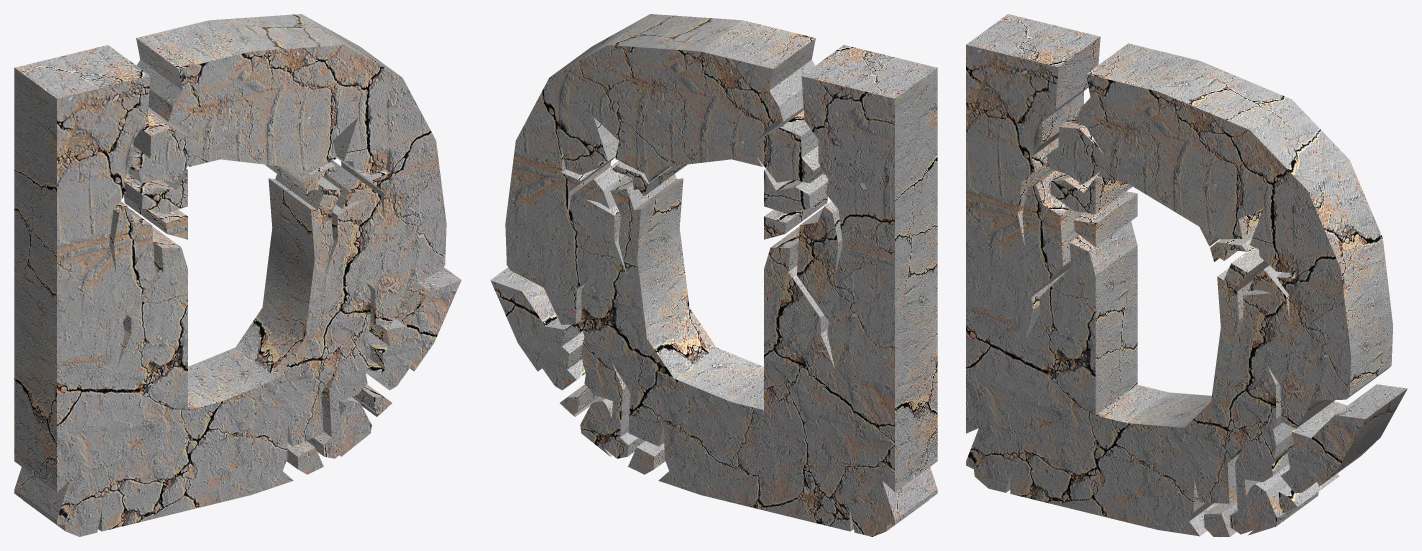
3 views of the same model, side by side, from view 1: azimuth 30°, elevation 25°; view 2: azimuth 150°, elevation 25°; view 3: azimuth 330°, elevation 25° (orthographic).
Visible parts, largest first — view 1: D; view 2: D; view 3: D.
Part boxes in pixels (<box>): D: <box>14,14,461,536</box>; D: <box>490,14,937,536</box>; D: <box>966,14,1407,536</box>.
Bounding box in the file's own units: 82.44 × 86.36 × 15.
Materials: 1 (1 with a texture image).
